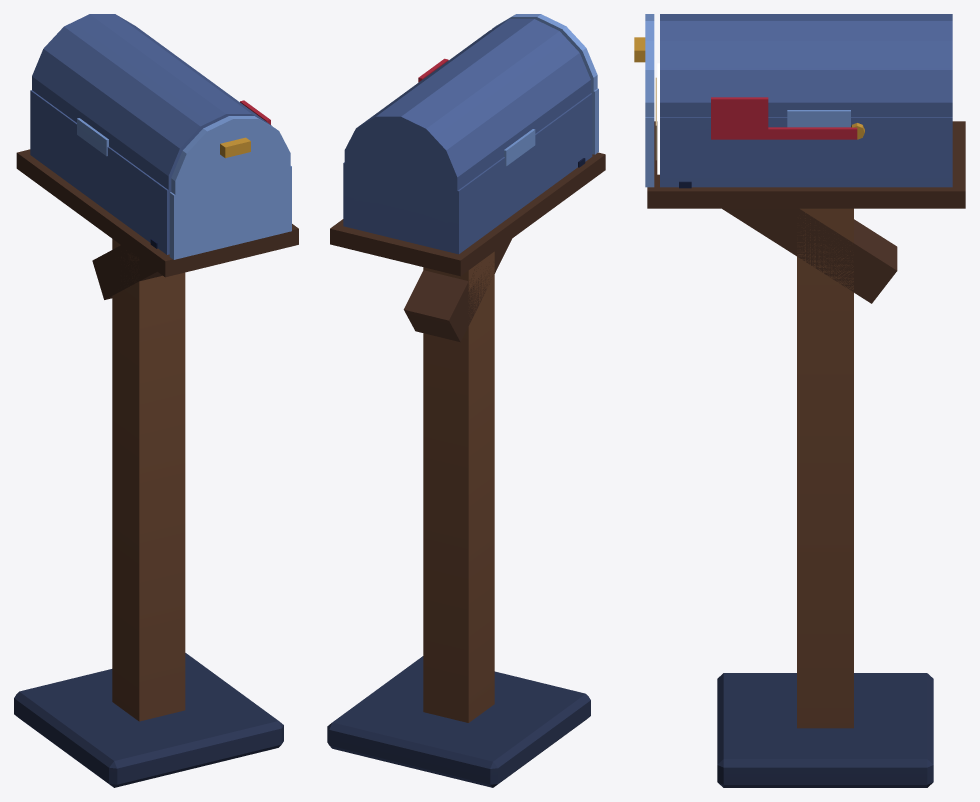
Rendered from mailbox.glb.
The picture shows the model from 3 angles, left to right: view 1: azimuth 30°, elevation 25°; view 2: azimuth 150°, elevation 25°; view 3: azimuth 270°, elevation 25°; orthographic projection. The views are drawn at different scales.
Parts seen in each view (by area): view 1: Mailbox, Mailbox_Door; view 2: Mailbox, Mailbox_Door; view 3: Mailbox, Mailbox_Flag, Mailbox_Door.
Boxes of the visible parts, x1,y1,x2,y2 form: Mailbox: (14,14,298,787); Mailbox_Door: (169,116,291,259); Mailbox: (327,19,605,787); Mailbox_Door: (492,14,598,154); Mailbox: (647,14,965,787); Mailbox_Flag: (711,97,857,139); Mailbox_Door: (634,14,654,187).
Bounding box in the file's own units: 0.34 × 1.25 × 0.52.
